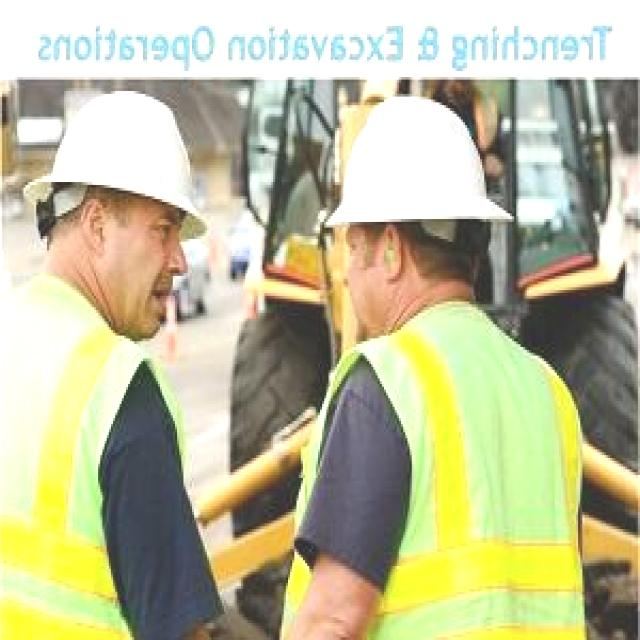helmet: (302, 100, 520, 253), (13, 100, 215, 230)
no-goggles: (128, 212, 186, 248), (340, 224, 386, 262)
vest: (269, 290, 599, 626), (0, 278, 207, 634)
